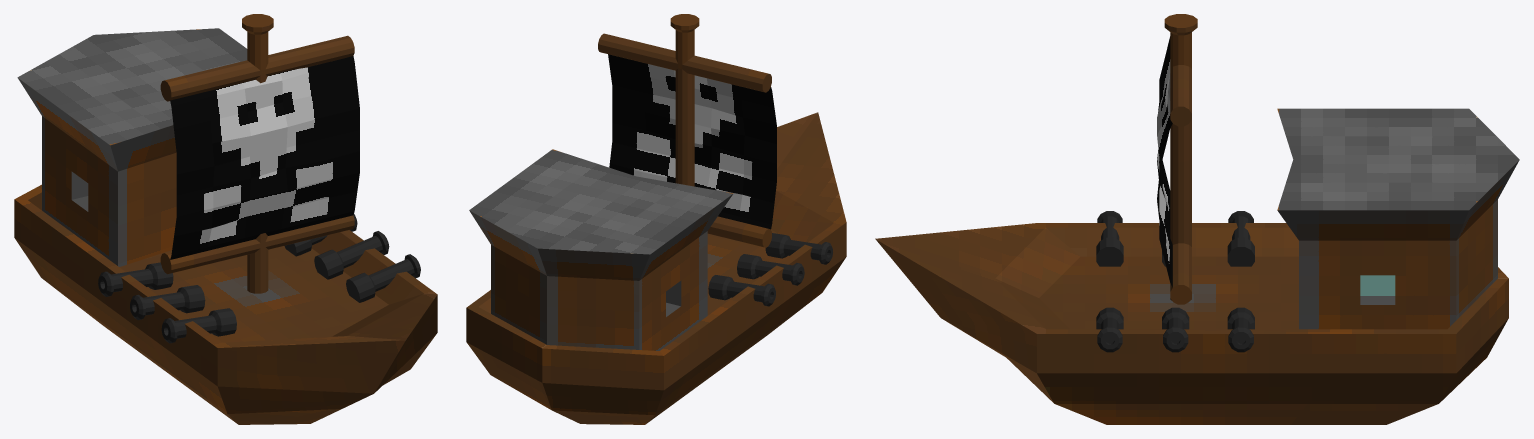
The model's file is ship.fbx.
3 renders of one model, left to right at view 1: azimuth 30°, elevation 25°; view 2: azimuth 150°, elevation 25°; view 3: azimuth 270°, elevation 25°, orthographic. The views are drawn at different scales.
Parts seen in each view (by area): view 1: cuboid, plane, cylinder_2, cylinder_1, cylinder, cylinder_5, cylinder_4, cylinder_7, cylinder_6, cylinder_8, cylinder_3; view 2: cuboid, plane, cylinder, cylinder_2, cylinder_1, cylinder_8, cylinder_7, cylinder_6; view 3: cuboid, cylinder, plane, cylinder_2, cylinder_1, cylinder_6, cylinder_8, cylinder_5, cylinder_4, cylinder_3.
Boxes of the visible parts, left/top/right/bottom form: cuboid: left=14, top=28, right=437, bottom=424; plane: left=170, top=56, right=359, bottom=259; cylinder_2: left=160, top=35, right=354, bottom=101; cylinder_1: left=160, top=215, right=354, bottom=274; cylinder: left=242, top=14, right=273, bottom=293; cylinder_5: left=346, top=254, right=420, bottom=302; cylinder_4: left=314, top=231, right=389, bottom=279; cylinder_7: left=130, top=285, right=205, bottom=320; cylinder_6: left=161, top=308, right=236, bottom=343; cylinder_8: left=98, top=262, right=173, bottom=296; cylinder_3: left=284, top=214, right=357, bottom=256; cuboid: left=466, top=112, right=846, bottom=424; plane: left=608, top=54, right=776, bottom=229; cylinder: left=670, top=14, right=699, bottom=186; cylinder_2: left=598, top=33, right=771, bottom=92; cylinder_1: left=707, top=216, right=771, bottom=247; cylinder_8: left=708, top=275, right=775, bottom=306; cylinder_7: left=737, top=254, right=804, bottom=285; cylinder_6: left=765, top=233, right=832, bottom=264; cuboid: left=875, top=108, right=1519, bottom=424; cylinder: left=1164, top=14, right=1197, bottom=300; plane: left=1157, top=36, right=1172, bottom=286; cylinder_2: left=1170, top=65, right=1191, bottom=126; cylinder_1: left=1170, top=243, right=1191, bottom=304; cylinder_6: left=1096, top=211, right=1123, bottom=266; cylinder_8: left=1227, top=211, right=1254, bottom=266; cylinder_5: left=1096, top=307, right=1123, bottom=352; cylinder_4: left=1162, top=307, right=1189, bottom=352; cylinder_3: left=1227, top=307, right=1254, bottom=352.
Size of the model in its own units: 85.93 by 119 by 184.
4 materials, 4 textured.
